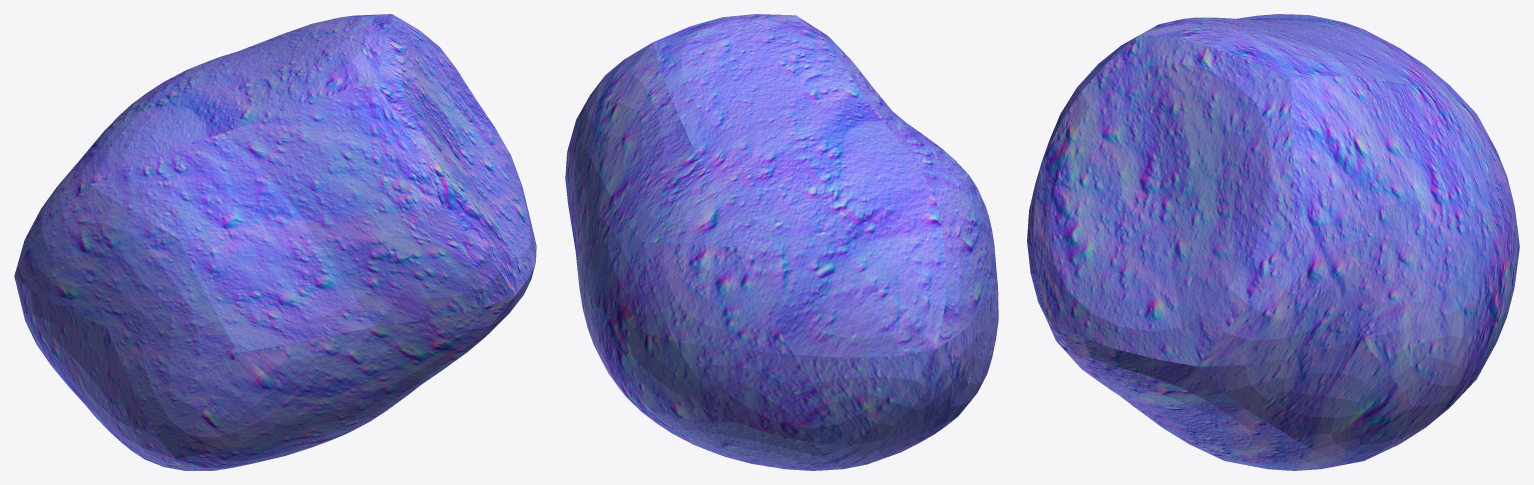
The model's file is bigasteroid12_LOD2.fbx.
3 views of the same model, side by side, from view 1: azimuth 30°, elevation 25°; view 2: azimuth 150°, elevation 25°; view 3: azimuth 270°, elevation 25° (orthographic). The views are drawn at different scales.
Visible parts, largest first — view 1: Icosphere; view 2: Icosphere; view 3: Icosphere.
Boxes of the visible parts, x1=… form: Icosphere: x1=14, y1=14, x2=536, y2=470; Icosphere: x1=565, y1=14, x2=998, y2=470; Icosphere: x1=1027, y1=14, x2=1519, y2=470.
Size of the model in its own units: 238 by 210 by 204.
